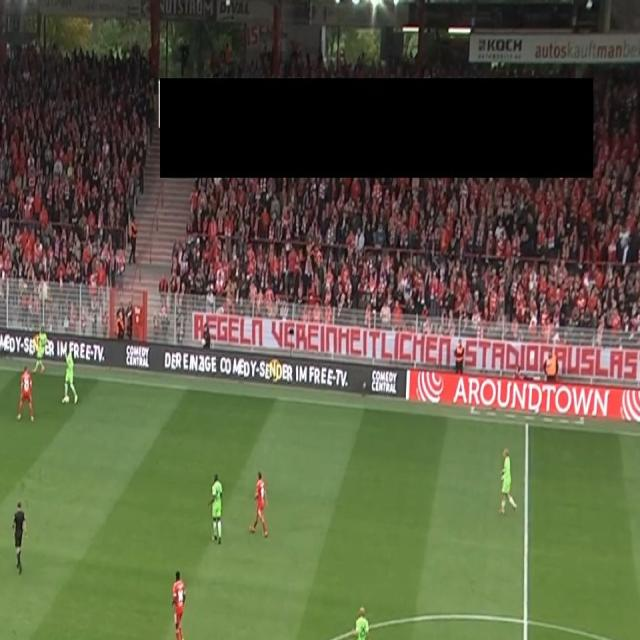ball: (64, 394, 70, 405)
